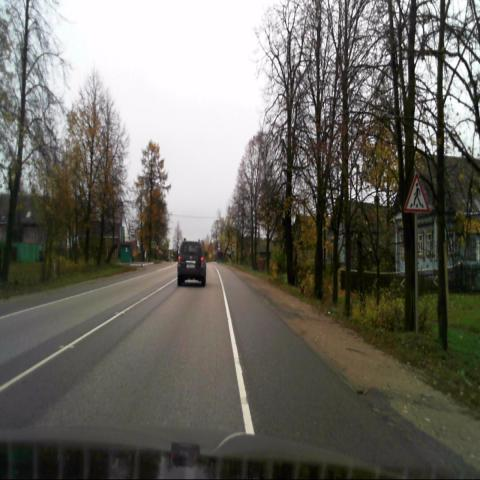1_22: (405, 172, 428, 214)
